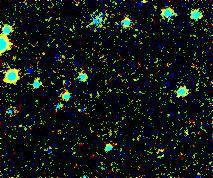star: (15, 51, 45, 81)
